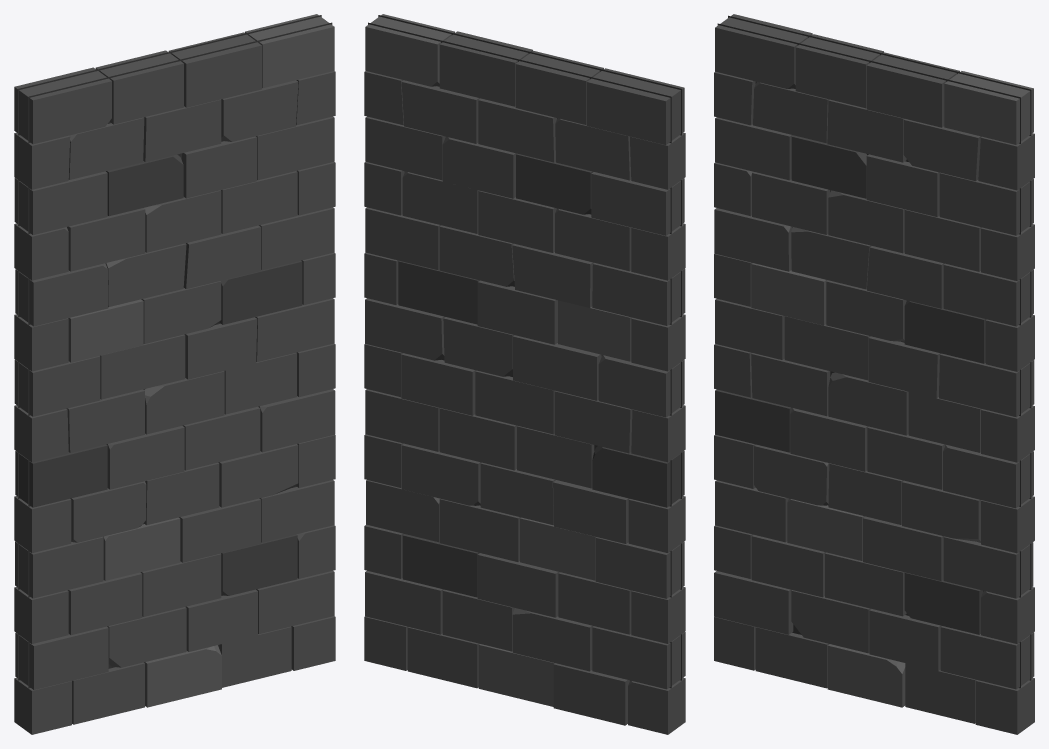
The model's file is CastleWall_01.glb.
3 views of the same model, side by side, from view 1: azimuth 30°, elevation 25°; view 2: azimuth 150°, elevation 25°; view 3: azimuth 330°, elevation 25° (orthographic).
Parts seen in each view (by area): view 1: CastleWall_01_LOD0; view 2: CastleWall_01_LOD0; view 3: CastleWall_01_LOD0.
Boxes of the visible parts, x1,y1,x2,y2 form: CastleWall_01_LOD0: [14, 14, 335, 734]; CastleWall_01_LOD0: [364, 14, 685, 734]; CastleWall_01_LOD0: [714, 14, 1034, 734].
Size of what is drawn, in the model's own units: 2.5 by 5 by 0.2819.
Materials: 1 (1 with a texture image).
